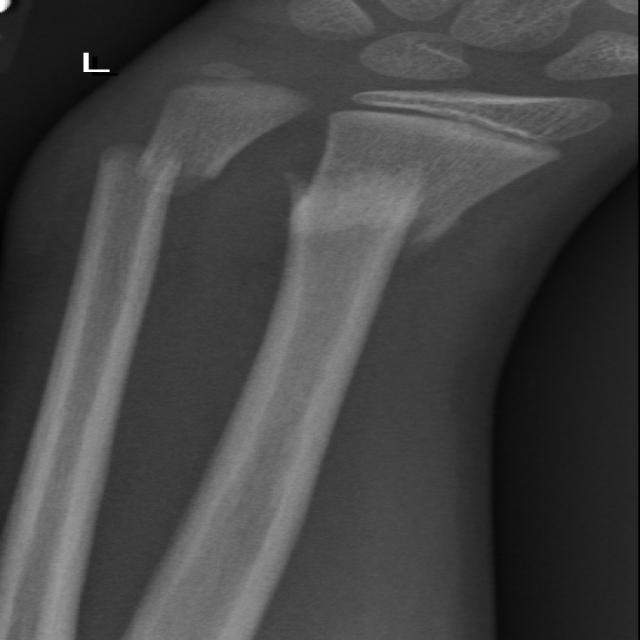radius fracture: (267, 122, 505, 312)
ulna fracture: (77, 93, 264, 261)
